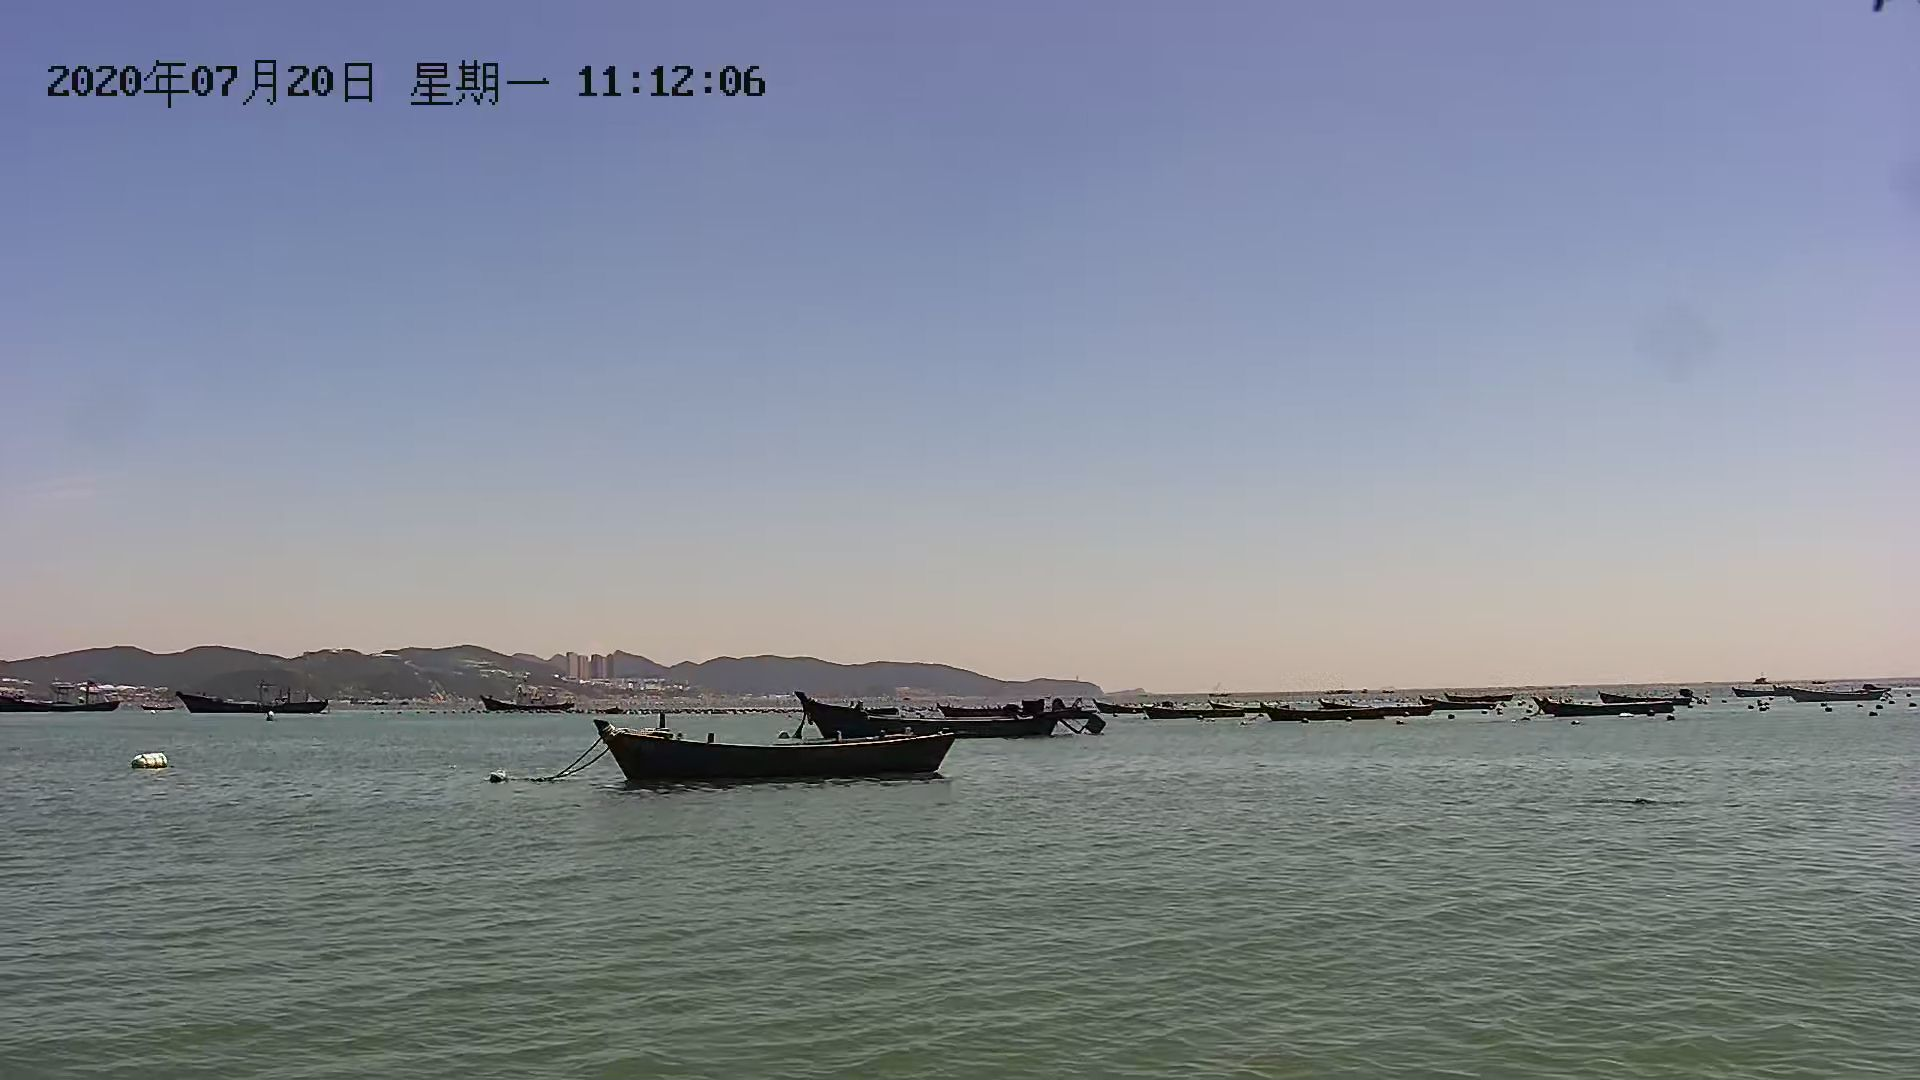boat: (575, 723, 964, 786), (785, 691, 1116, 741), (170, 688, 338, 723), (1, 679, 133, 719), (1265, 694, 1389, 727), (1122, 691, 1245, 723), (1538, 698, 1685, 723), (1412, 686, 1520, 716), (1791, 694, 1912, 713)
rubbish: (131, 749, 171, 771)
